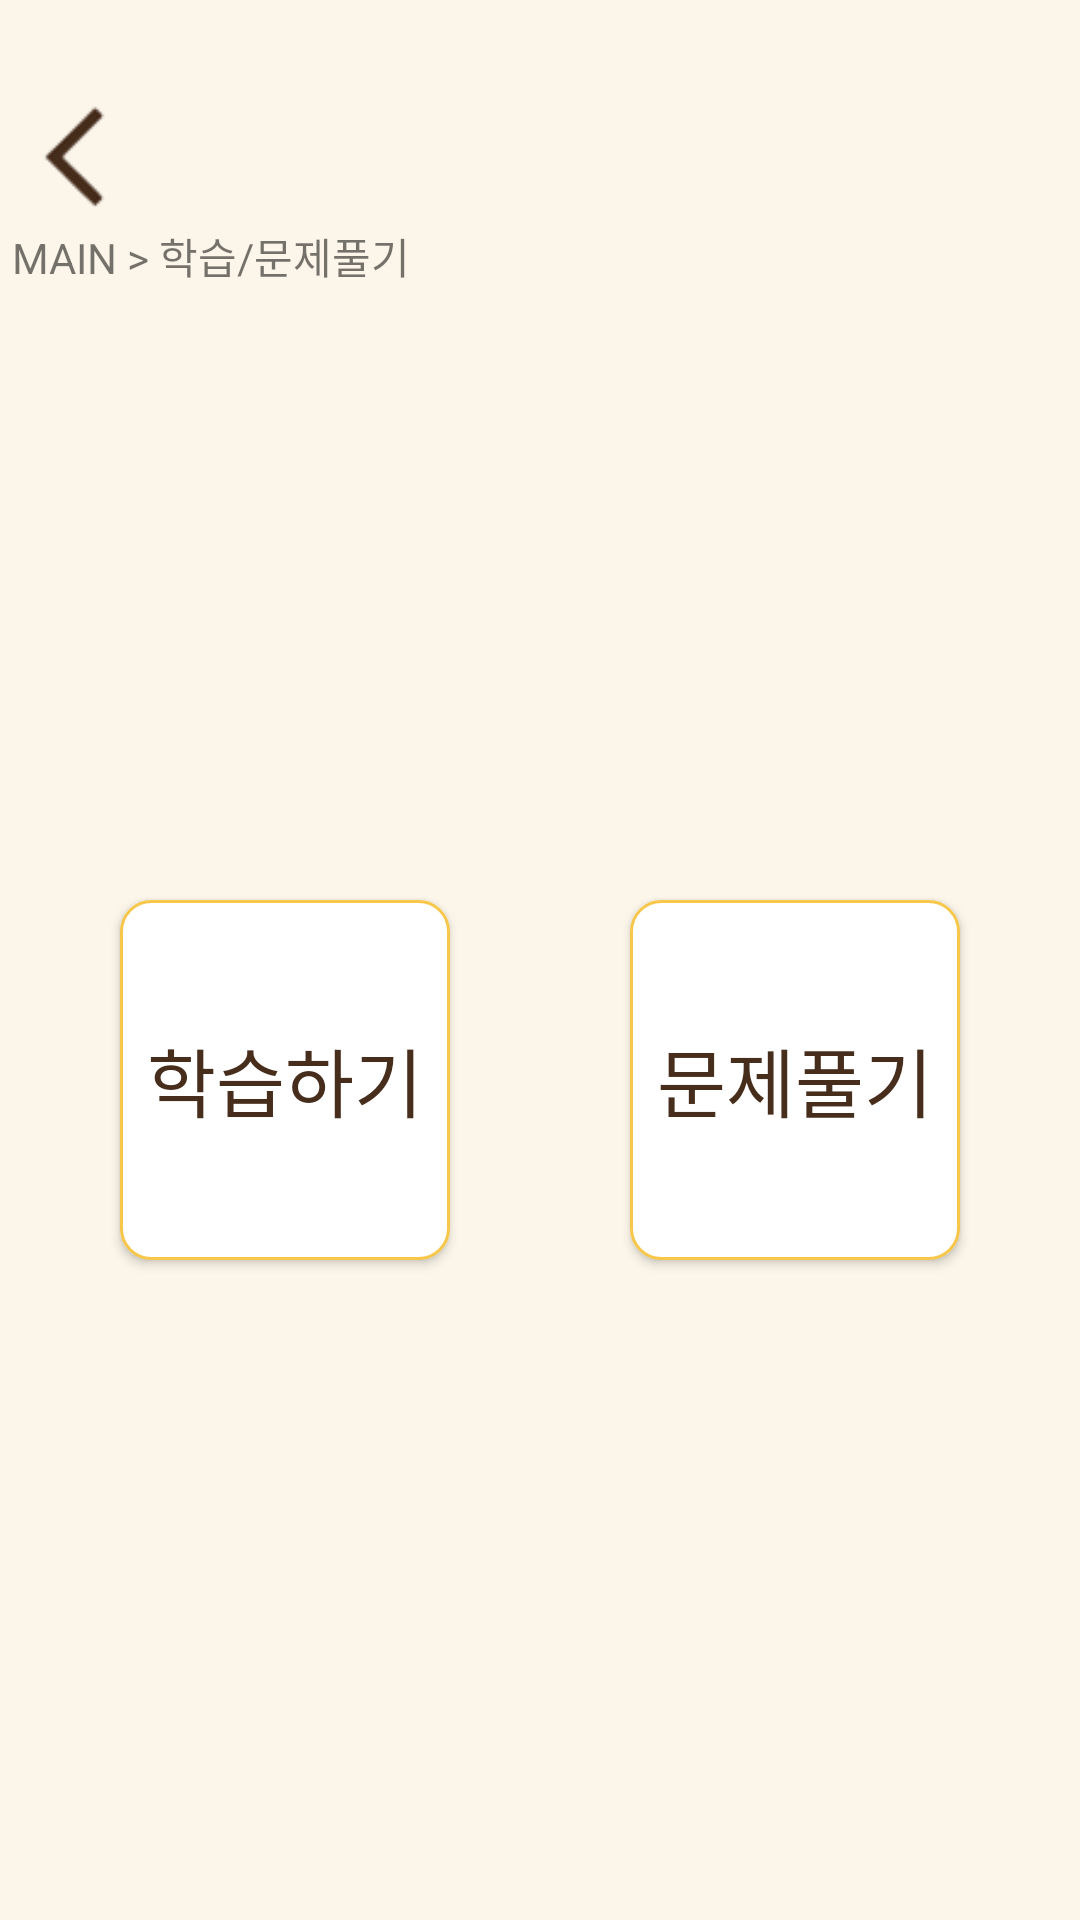

Where to tap for icons on this 1080 x 1920 app screen, as (x,y):
arrow: (74,156)
